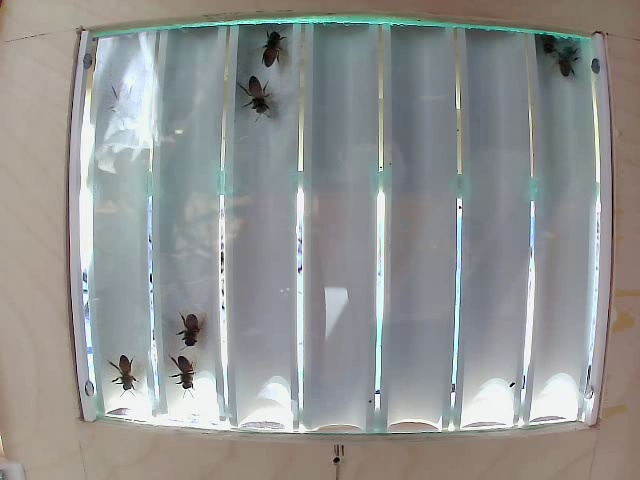bee: (160, 351, 202, 396), (102, 351, 144, 396), (238, 76, 278, 114), (169, 315, 211, 347), (257, 23, 285, 67), (560, 40, 580, 81)
